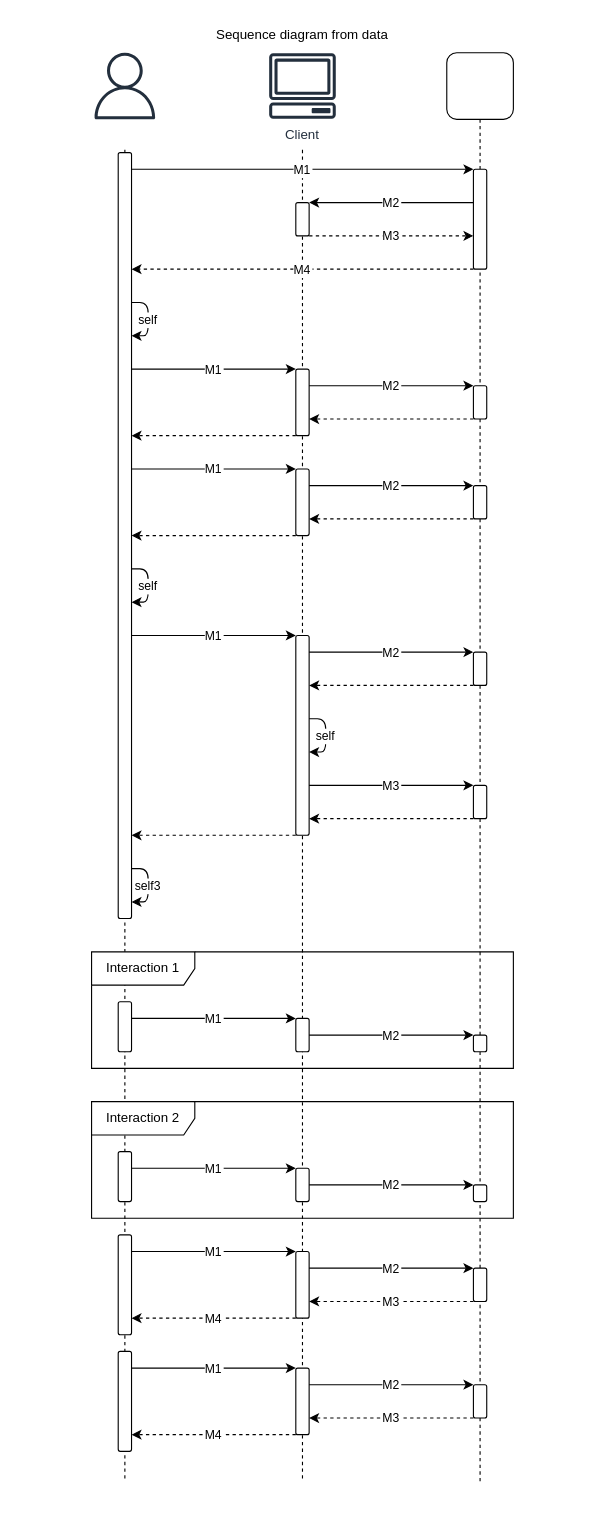
The diagram is 604 pixels wide and 1534 high, and some of its shapes have lost their labels. Each missing label, with the box of its shape:
Servers: (446, 52, 513, 119)
User: (91, 52, 158, 119)
